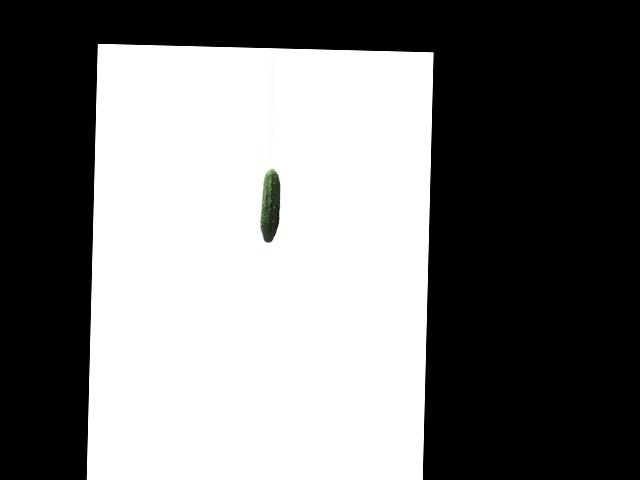cucumber: (260, 168, 280, 243)
